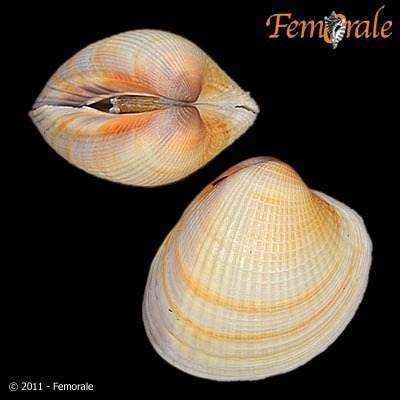cockle: (137, 155, 373, 383), (27, 27, 260, 189)
